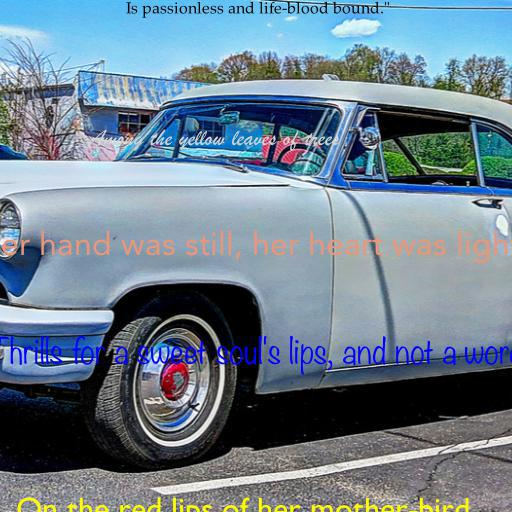Avenir: (0, 230, 512, 263)
Brush Script MT: (89, 129, 339, 152)
Gill Sans: (16, 497, 470, 512)
Noteworthy: (0, 335, 512, 375)
Palatino: (126, 1, 390, 18)
